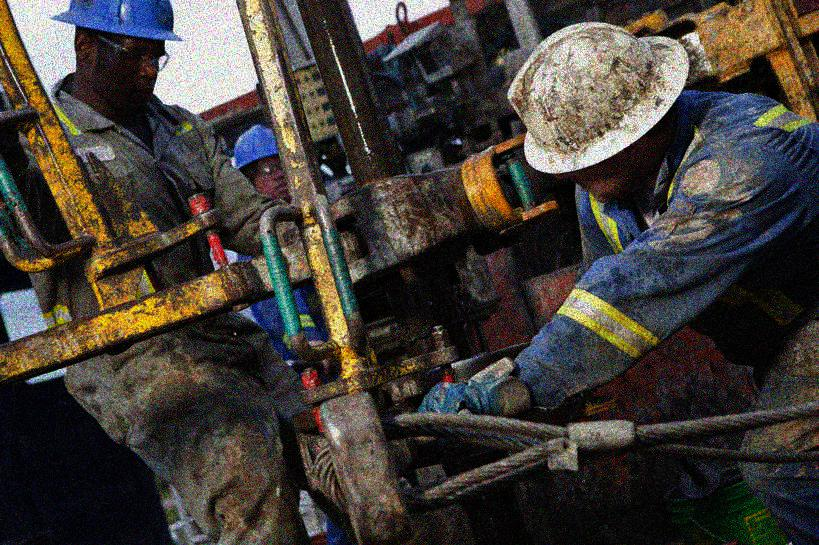helmet: (504, 18, 693, 201), (53, 1, 189, 114), (232, 121, 300, 204)
